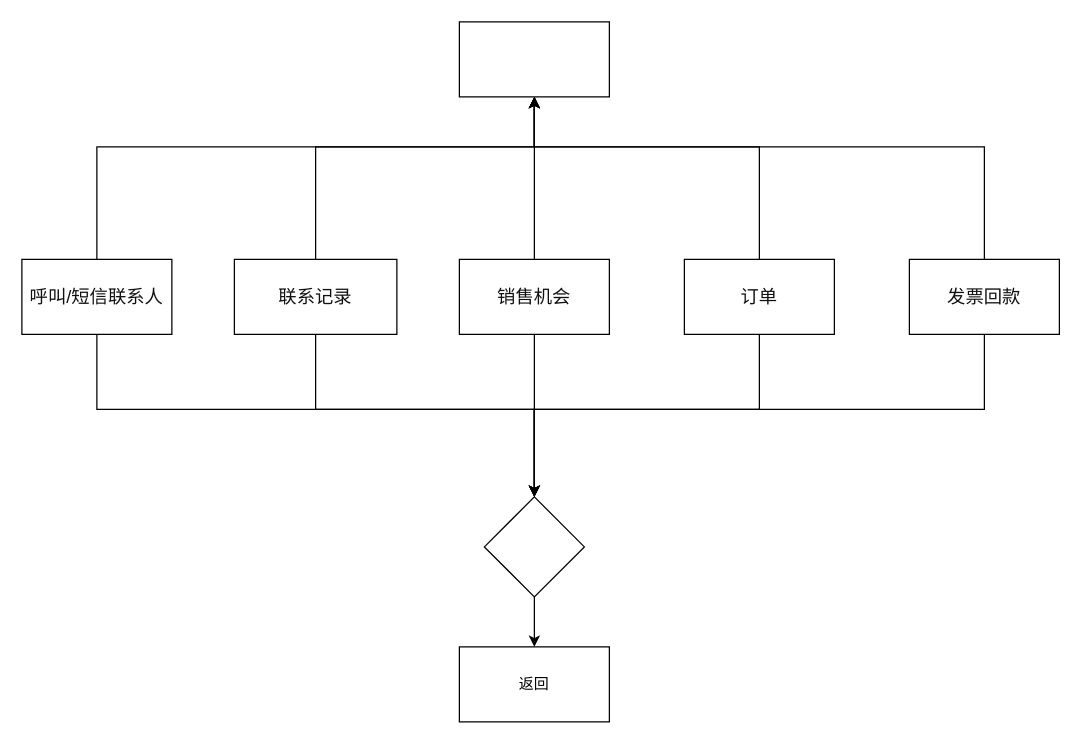
Some shapes in this 1081 by 744 pixel diagram are drawn without their labels. Each missing label, with the box of its shape:
聚合数据: (483, 496, 584, 597)
获取企业可以看到的联系人数据: (458, 21, 609, 97)
